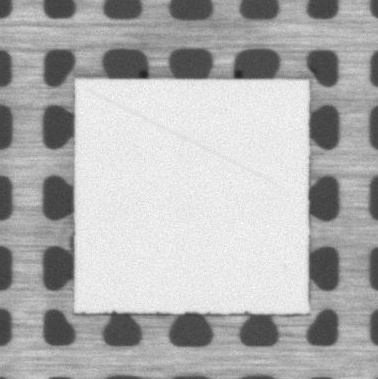DIE_CRACK: (86, 89, 269, 180)
